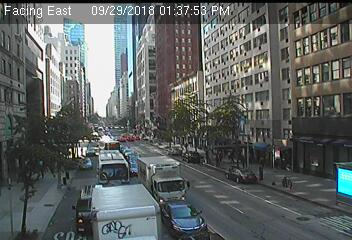car: (91, 185, 161, 240), (136, 156, 189, 208), (72, 185, 112, 236), (160, 200, 208, 239), (96, 150, 129, 192), (225, 167, 257, 186), (103, 141, 121, 161), (181, 151, 199, 164), (128, 162, 141, 176), (78, 158, 93, 170), (165, 145, 181, 155), (85, 148, 97, 157)
